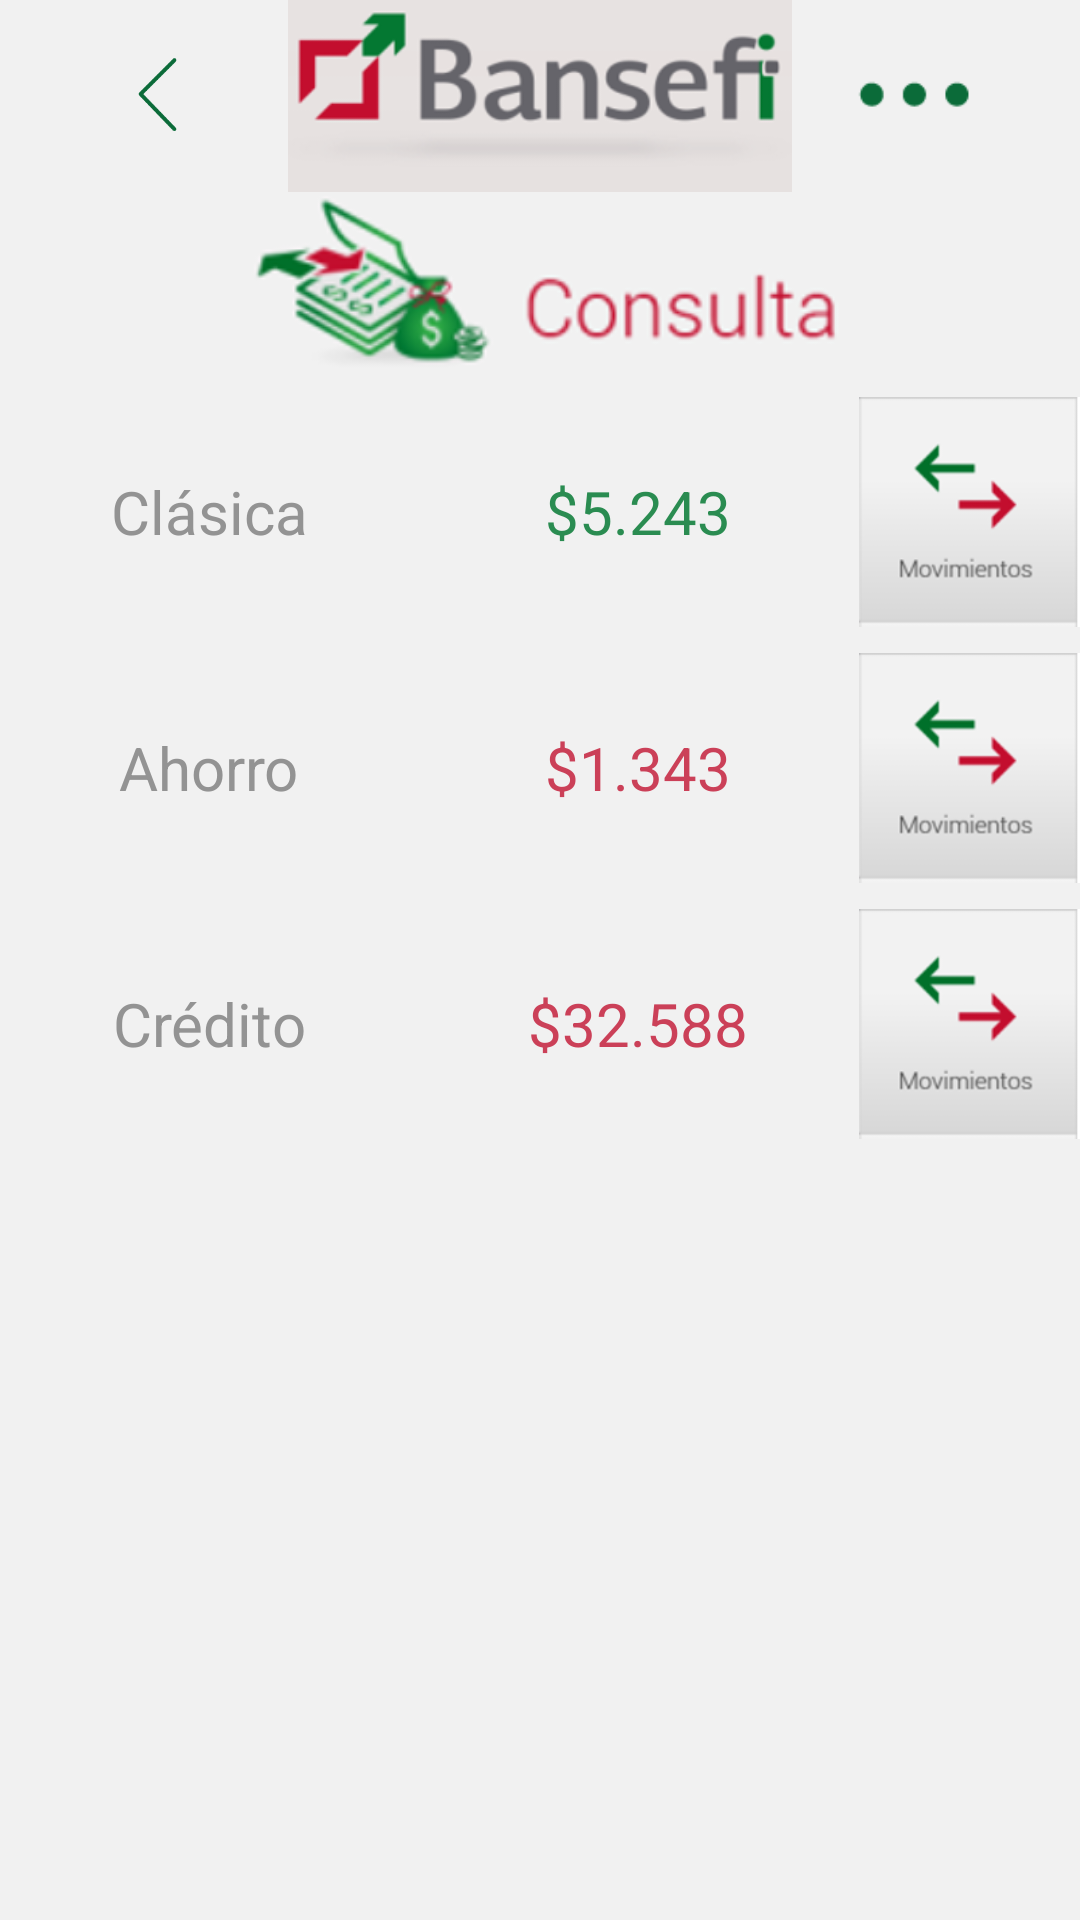

Locate icon controls on the screen. Image size 1080px x 1920px, boxes as (x1, y1, x2, y2).
return: (138, 58, 177, 131)
